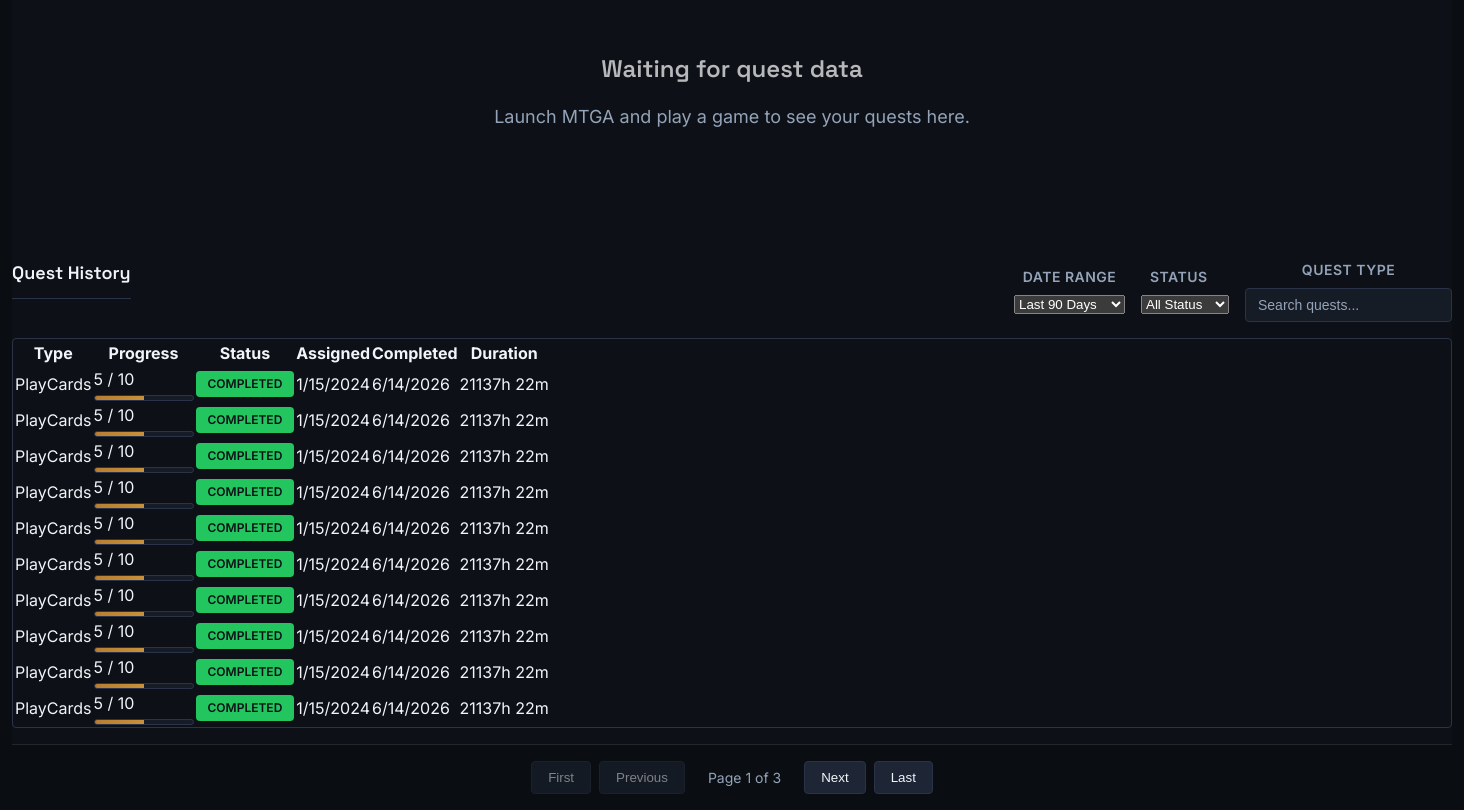
Quests › Pagination › should navigate to last page
(page scrolled)
Expected: the text "Page 1 of 3" is shown, [708,768,781,786]
What coordinates should you click on to do the following:
click the button "Last"
I would click on:
 (903, 777)
Its box is [874,760,933,794].
(page scrolled)
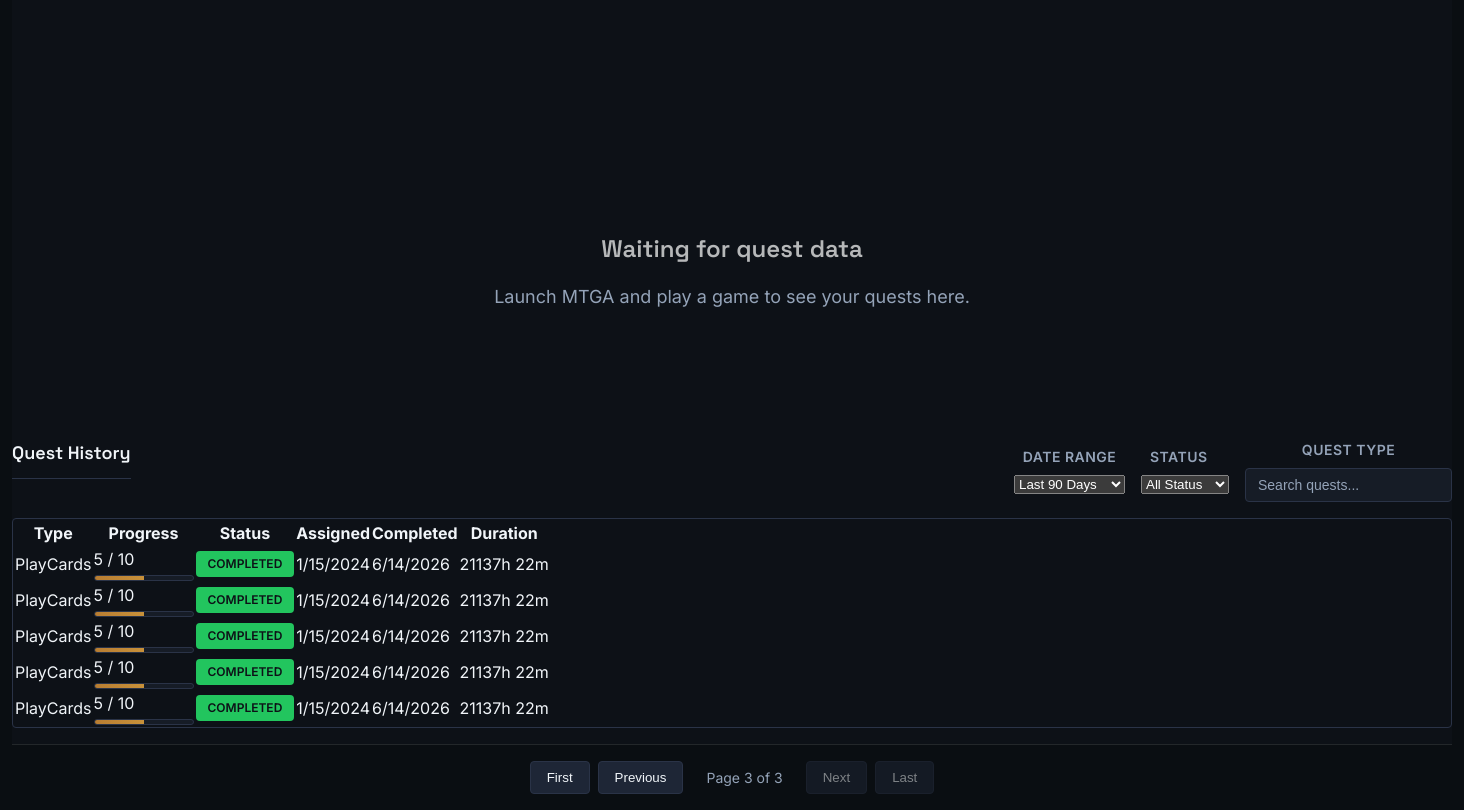
Result: the text "Page 3 of 3" is shown at [706,768,783,786]
